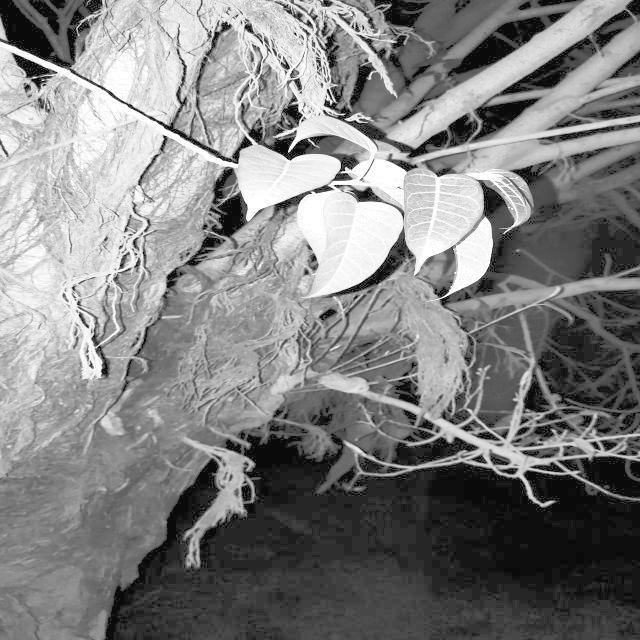Tree: (0, 1, 464, 640)
